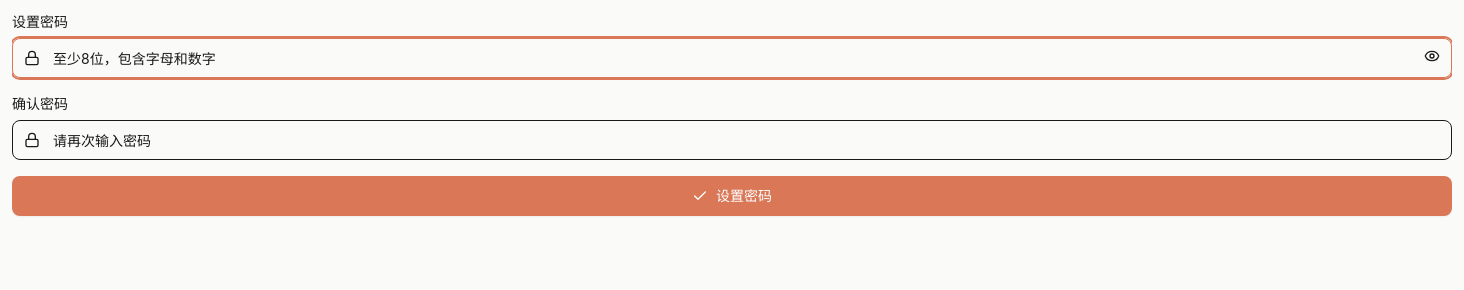
Test: SetPasswordForm 组件 › 输入后清除确认密码错误
In the password field with placeholder "至少8位，包含字母和数字": x=732, y=58 top-left (12, 38), bottom-right (1452, 78), type "abcd1234"
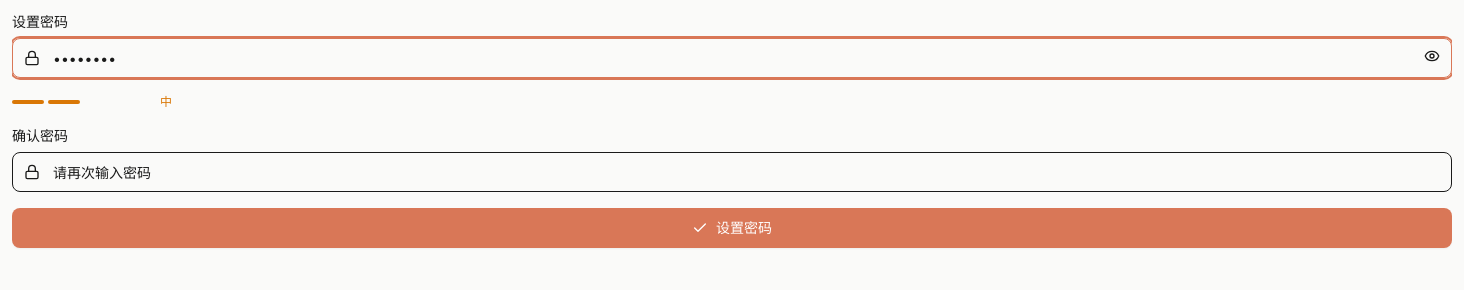
Click the button "设置密码": x=732, y=228 top-left (12, 208), bottom-right (1452, 248)
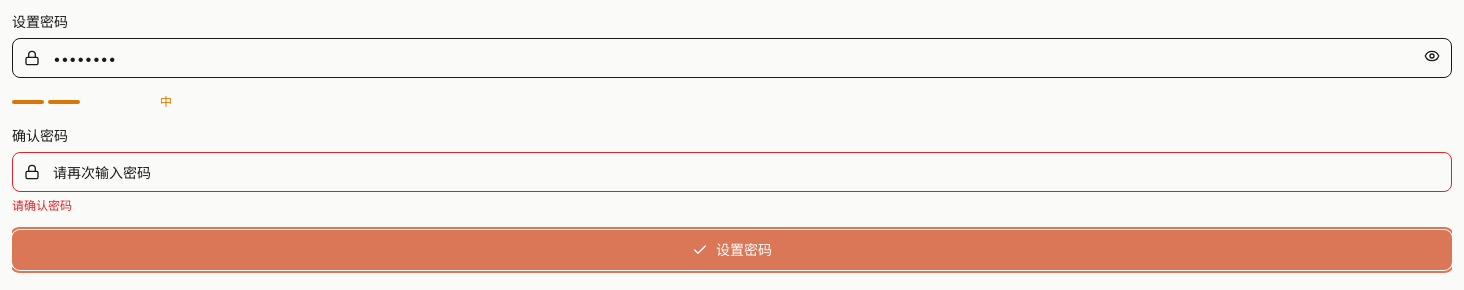
Now the text "请确认密码" is shown, box top-left (12, 198), bottom-right (72, 213)
// 输入确认密码后错误消失
In the password field with placeholder "请再次输入密码": x=732, y=172 top-left (12, 152), bottom-right (1452, 192), type "x"
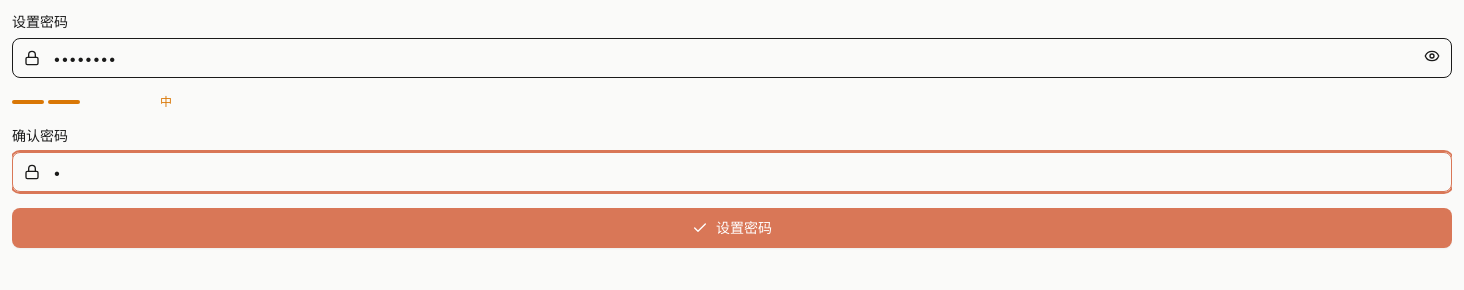
Now the text "请确认密码" is gone
